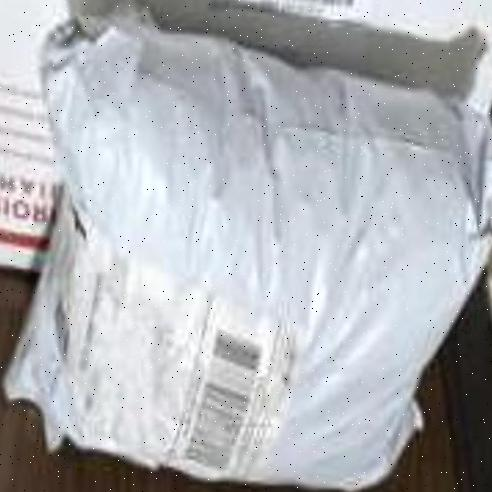Other: (53, 49, 435, 445), (0, 0, 492, 268)
